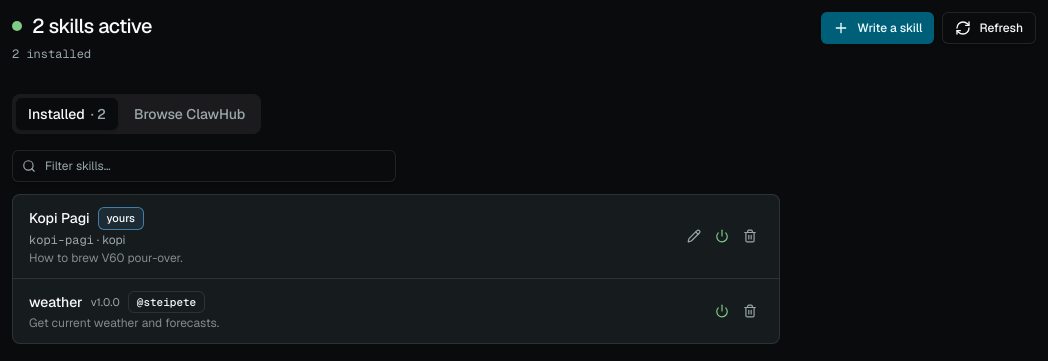
Test: SkillsPanel: two boxes that cannot leak › filters the installed list without searching ClawHub
Expected: the text "Kopi Pagi" is shown, [29, 208, 90, 228]
In the field named "Filter installed skills": [204, 166] box [12, 150, 396, 182], type "kopi"
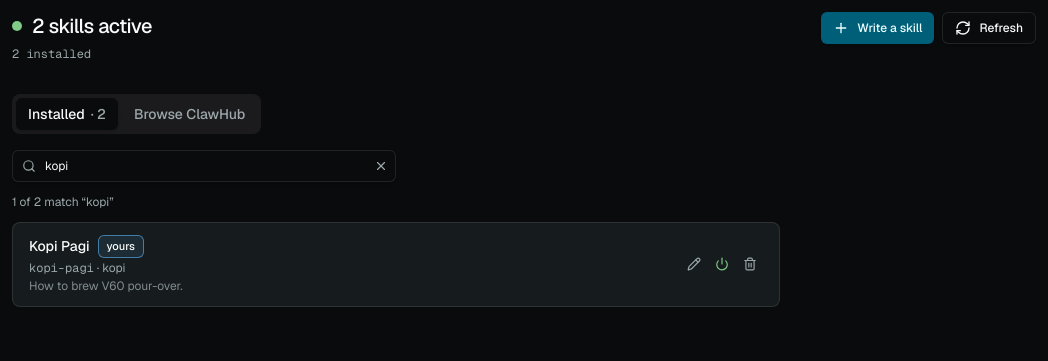
Expected: the text "weather" is gone
Expected: the text "1 of 2 match “kopi”" is shown, [12, 194, 114, 210]
